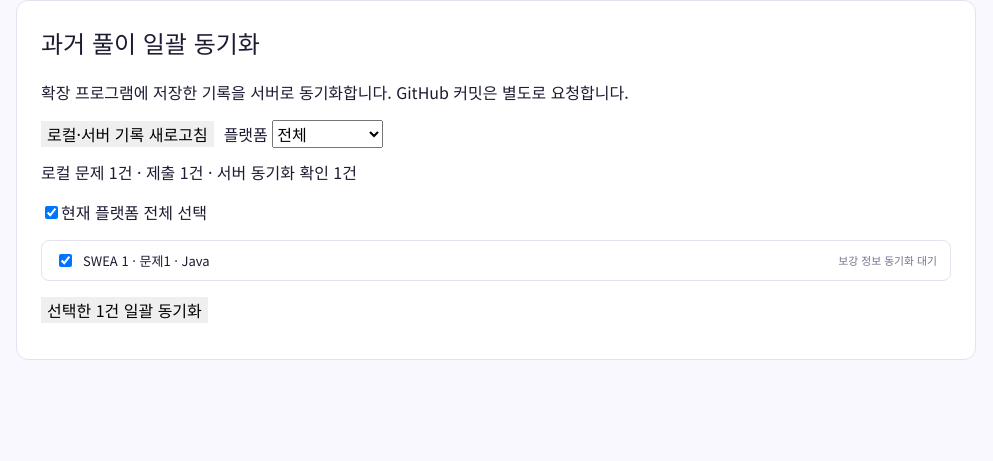
Test: retains failed enrichment without acknowledging it as synchronized
Click the button "선택한 1건 일괄 동기화" at (124, 310), box 41,297 -> 208,323
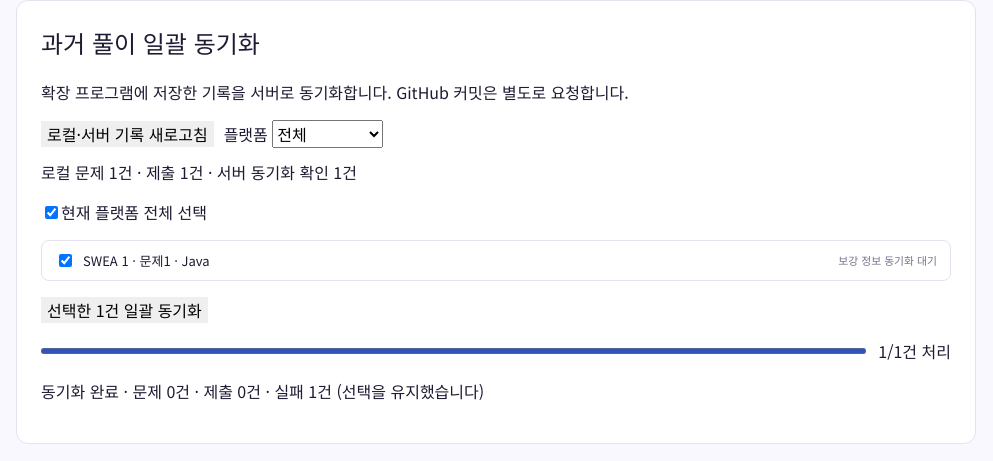
Now the text "동기화 완료 · 문제 0건 · 제출 0건 · 실패 1건 (선택을 유지했습니다)" is shown, box 41,379 -> 484,403
